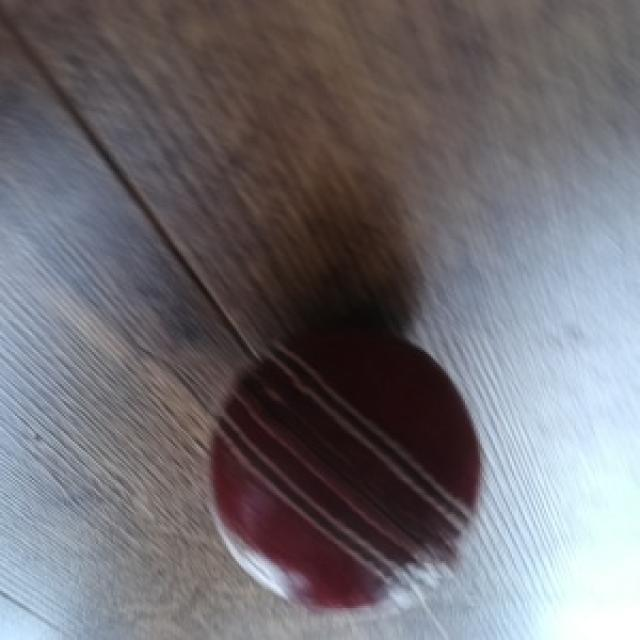ball: (207, 320, 484, 614)
